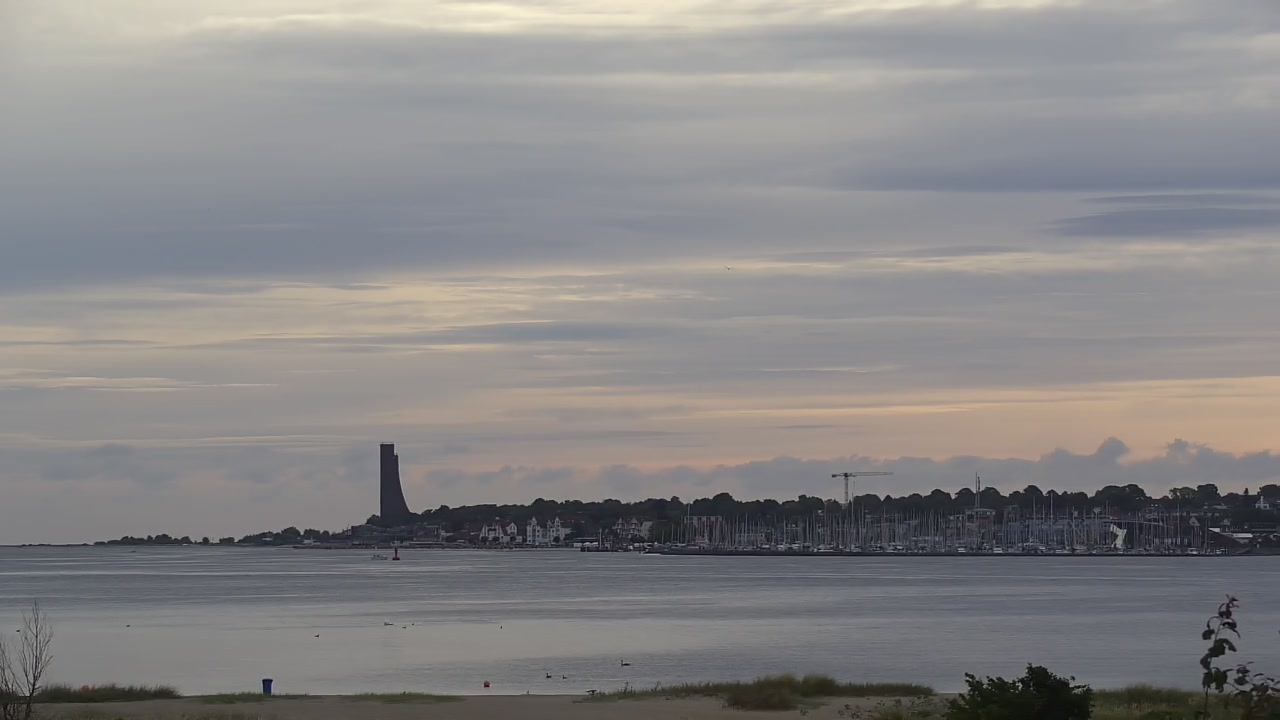sea: (369, 554, 387, 560)
